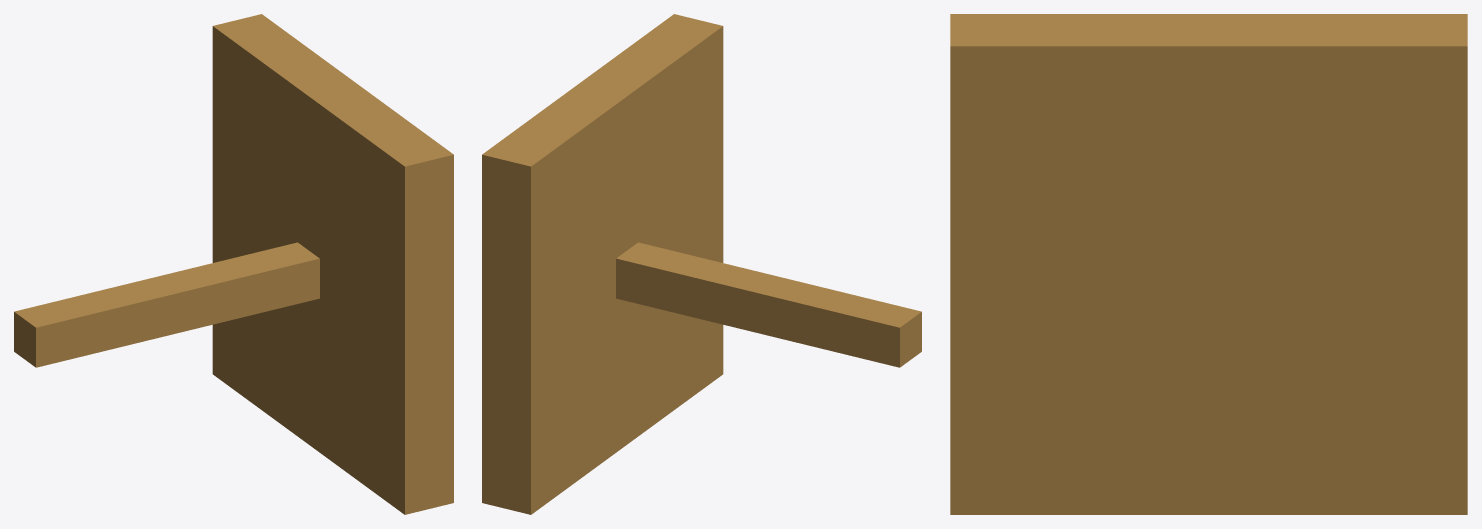
File: piston_sentan.fbx
The picture shows the model from 3 angles, left to right: view 1: azimuth 30°, elevation 25°; view 2: azimuth 150°, elevation 25°; view 3: azimuth 270°, elevation 25°; orthographic projection. The views are drawn at different scales.
Visible parts, largest first — view 1: Cube.001, Cube.002; view 2: Cube.001, Cube.002; view 3: Cube.001.
Boxes of the visible parts, x1=… form: Cube.001: x1=212, y1=14, x2=453, y2=514; Cube.002: x1=14, y1=242, x2=319, y2=367; Cube.001: x1=482, y1=14, x2=723, y2=514; Cube.002: x1=616, y1=242, x2=921, y2=367; Cube.001: x1=950, y1=14, x2=1467, y2=514.
Size of the model in its own units: 4 by 4 by 4.
1 material, 1 textured.
